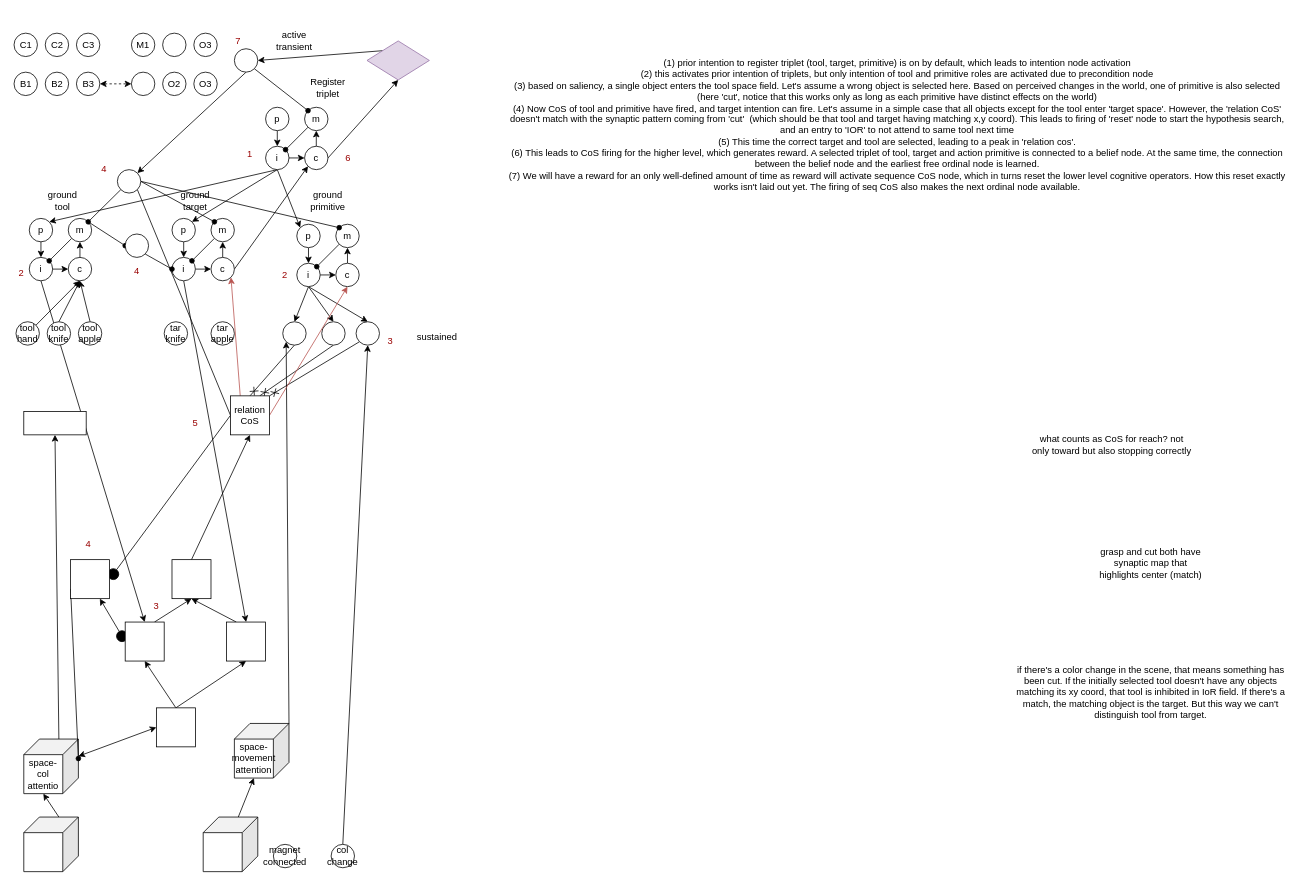
Image size: 1300x885. Some labels were removed from this diagram. Each missing label, with the box of its shape:
color attention: (23, 411, 86, 435)
cut: (355, 321, 379, 345)
grasp: (321, 321, 345, 345)
M2: (162, 32, 186, 57)
O1: (131, 71, 155, 96)
pc: (124, 233, 149, 257)
reach: (282, 321, 306, 345)
reset: (117, 169, 141, 193)
reward: (366, 40, 429, 80)
seq cos: (234, 48, 258, 72)
space attention: (156, 707, 195, 747)
space-col memory: (23, 816, 78, 872)
space-movement memory: (202, 816, 258, 872)
target space: (226, 621, 266, 661)
tool centered target: (171, 559, 211, 599)
tool IOR: (70, 559, 110, 599)
tool space: (124, 621, 164, 661)
